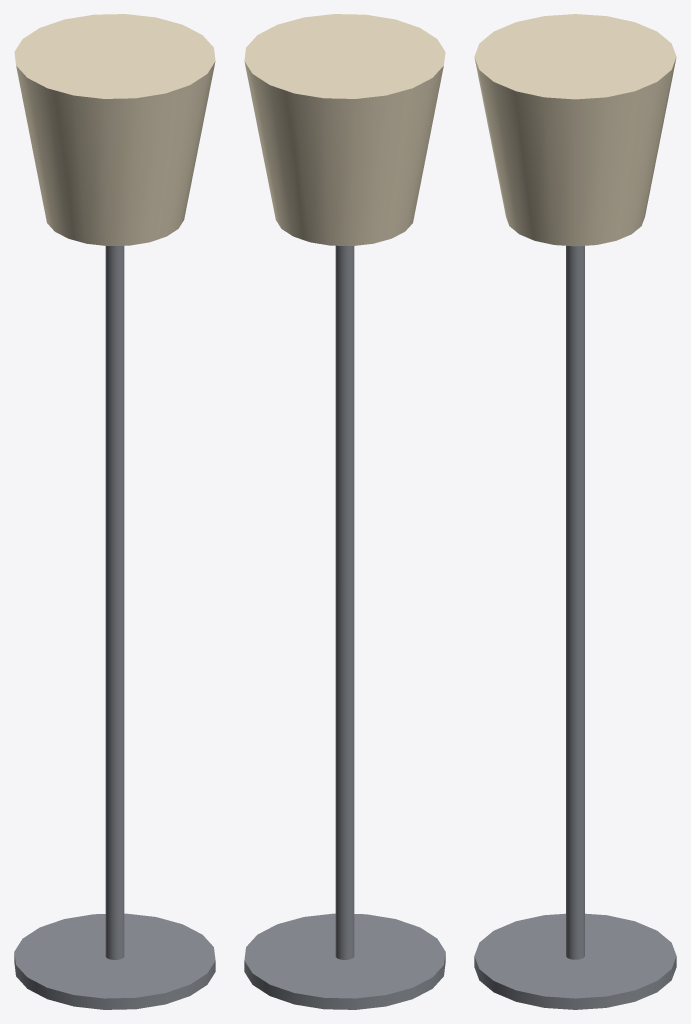
Rendered from floor-lamp.gltf.
3 views of the same model, side by side, from view 1: azimuth 30°, elevation 25°; view 2: azimuth 150°, elevation 25°; view 3: azimuth 270°, elevation 25° (orthographic).
Bounding box in the file's own units: 0.32 × 1.59 × 0.32.
